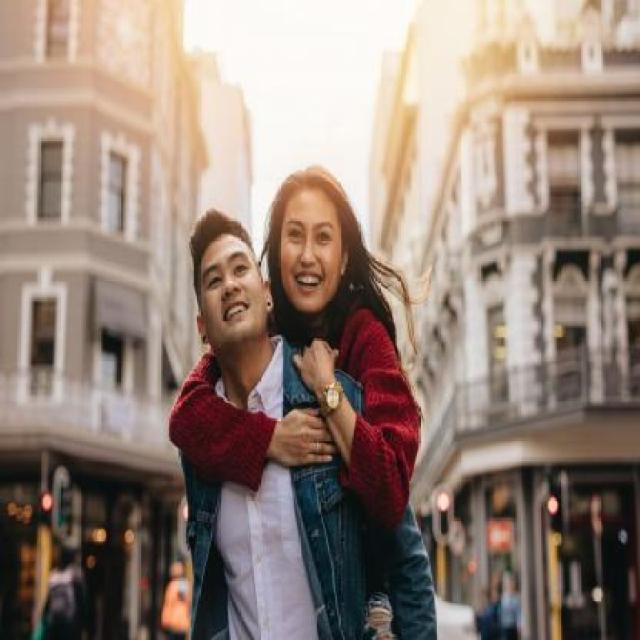sem_oculos: (268, 217, 369, 254), (178, 248, 263, 287)
